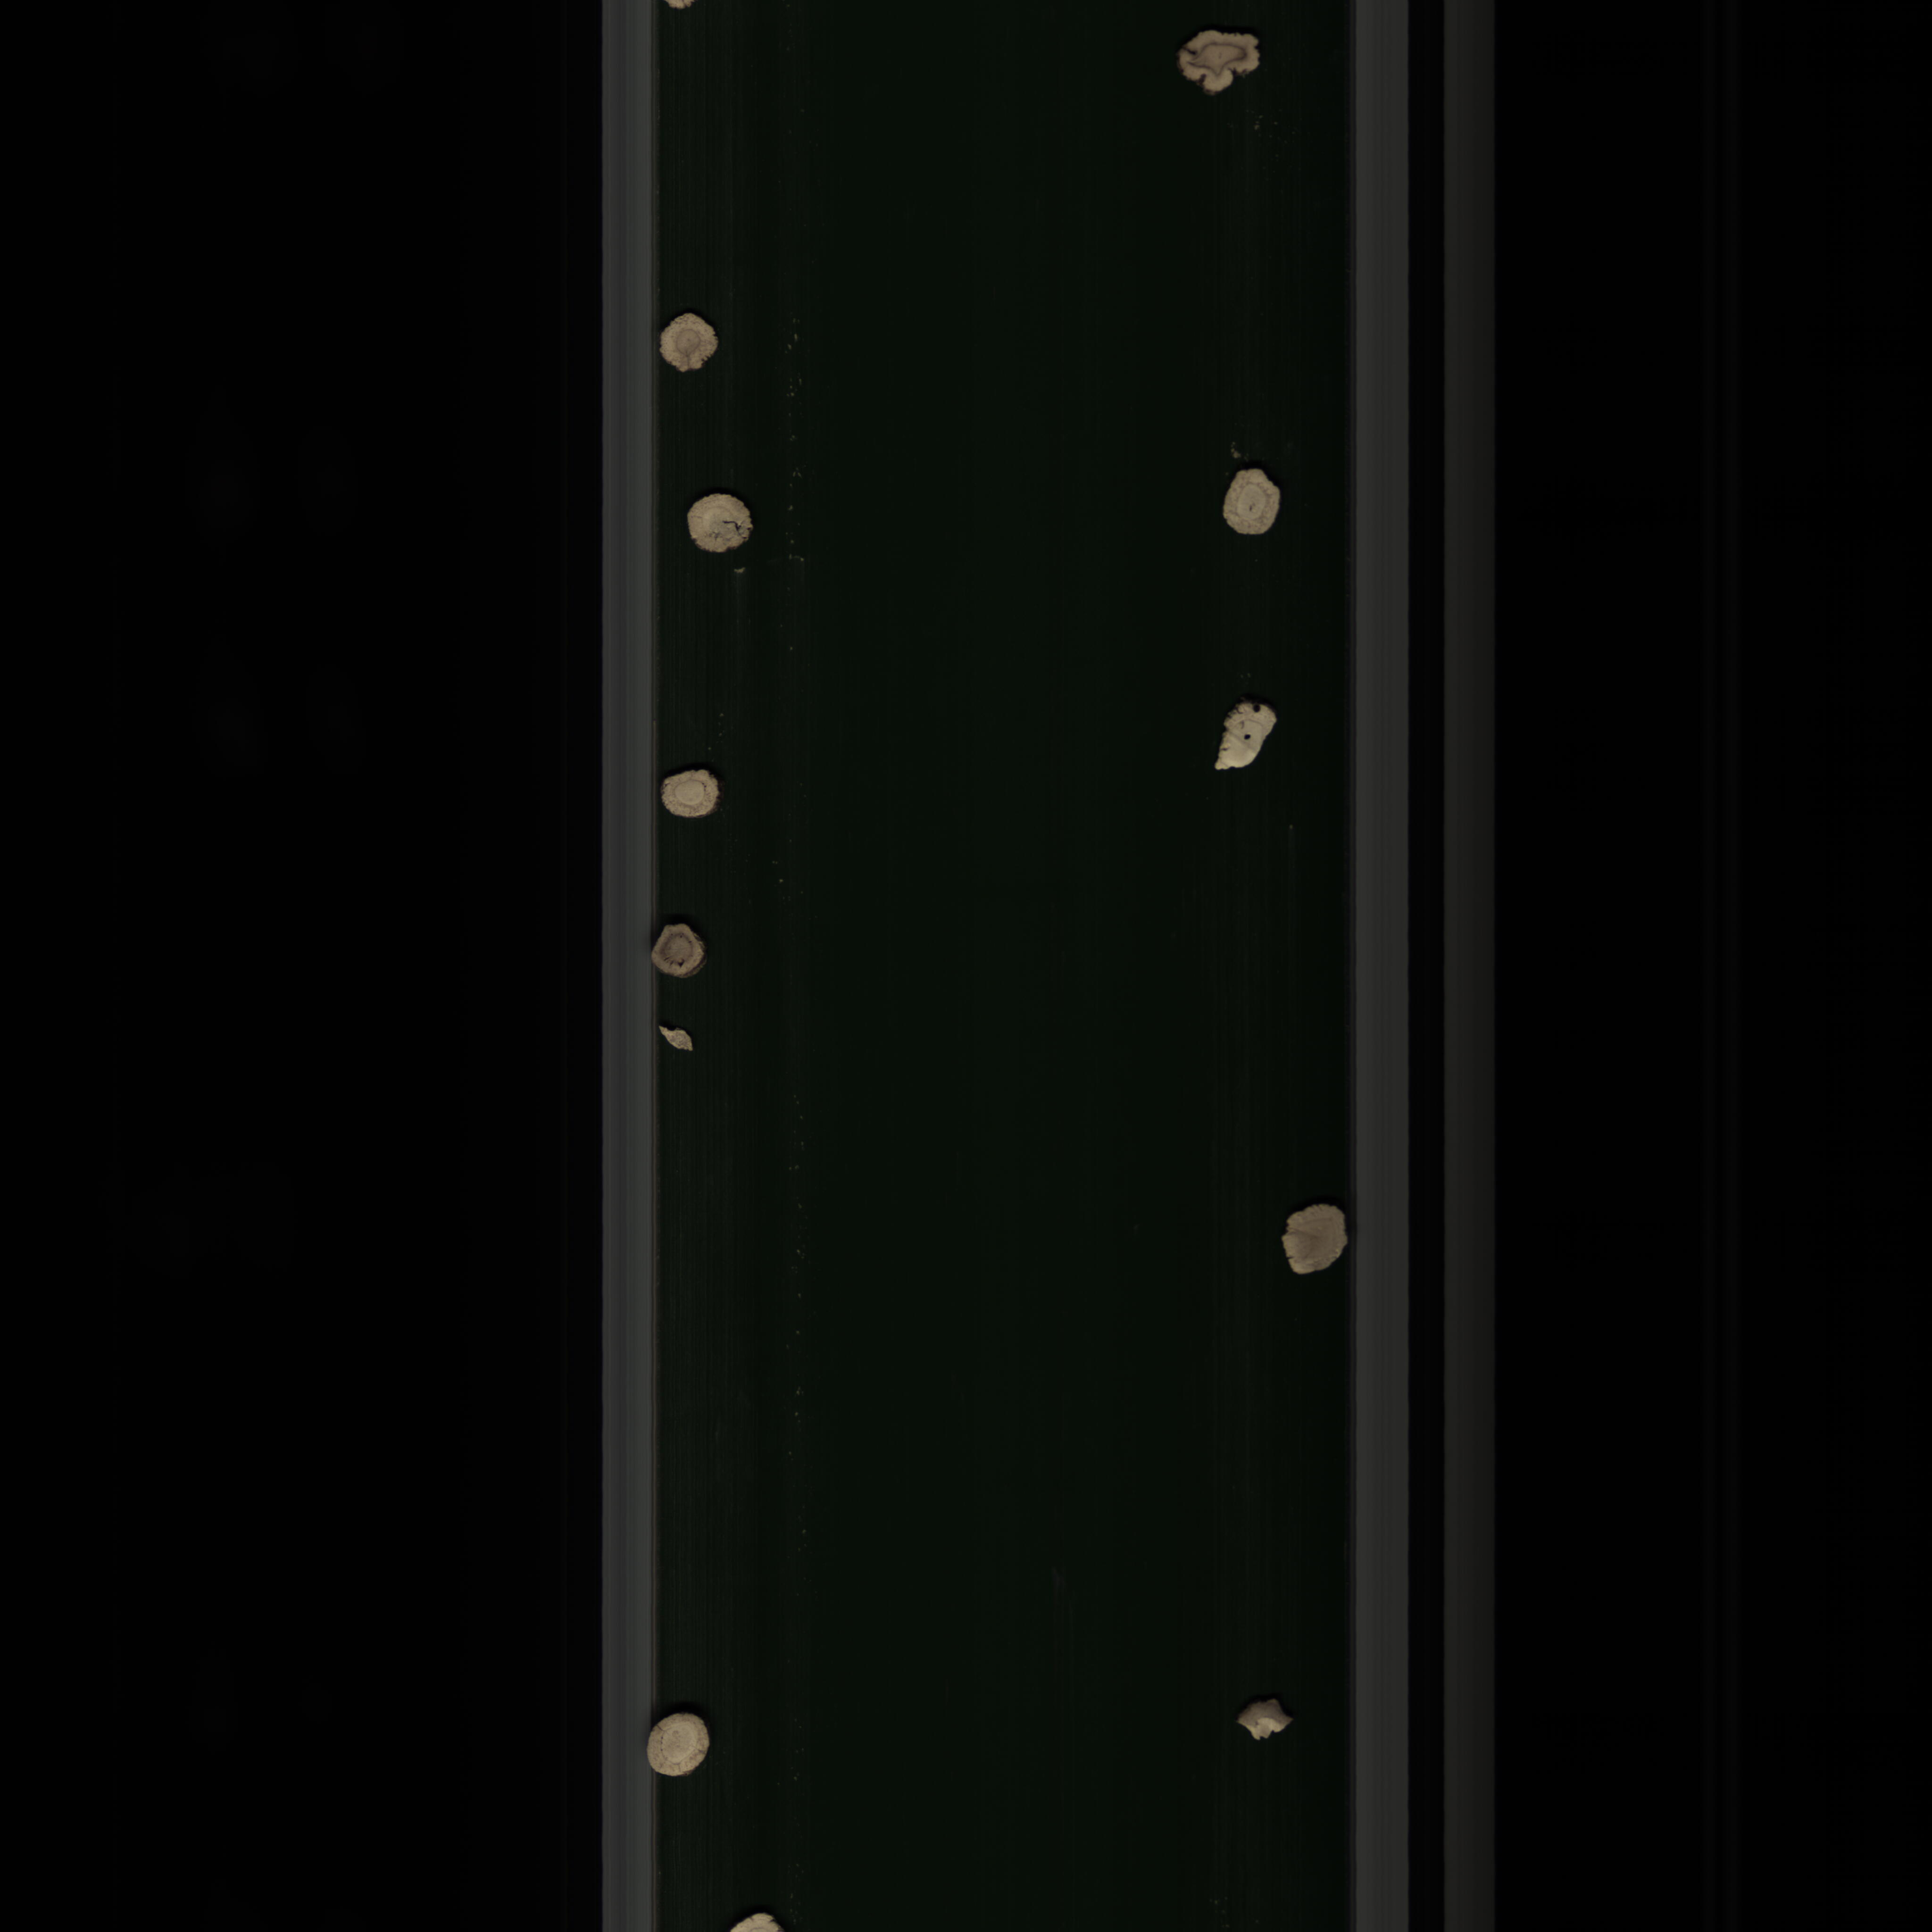bark: (658, 1023, 701, 1056)
debris: (1203, 690, 1295, 787), (1265, 1201, 1353, 1277), (1215, 1698, 1307, 1744)
hole: (679, 490, 757, 564)
moldy: (1173, 27, 1270, 108), (642, 922, 713, 985)
